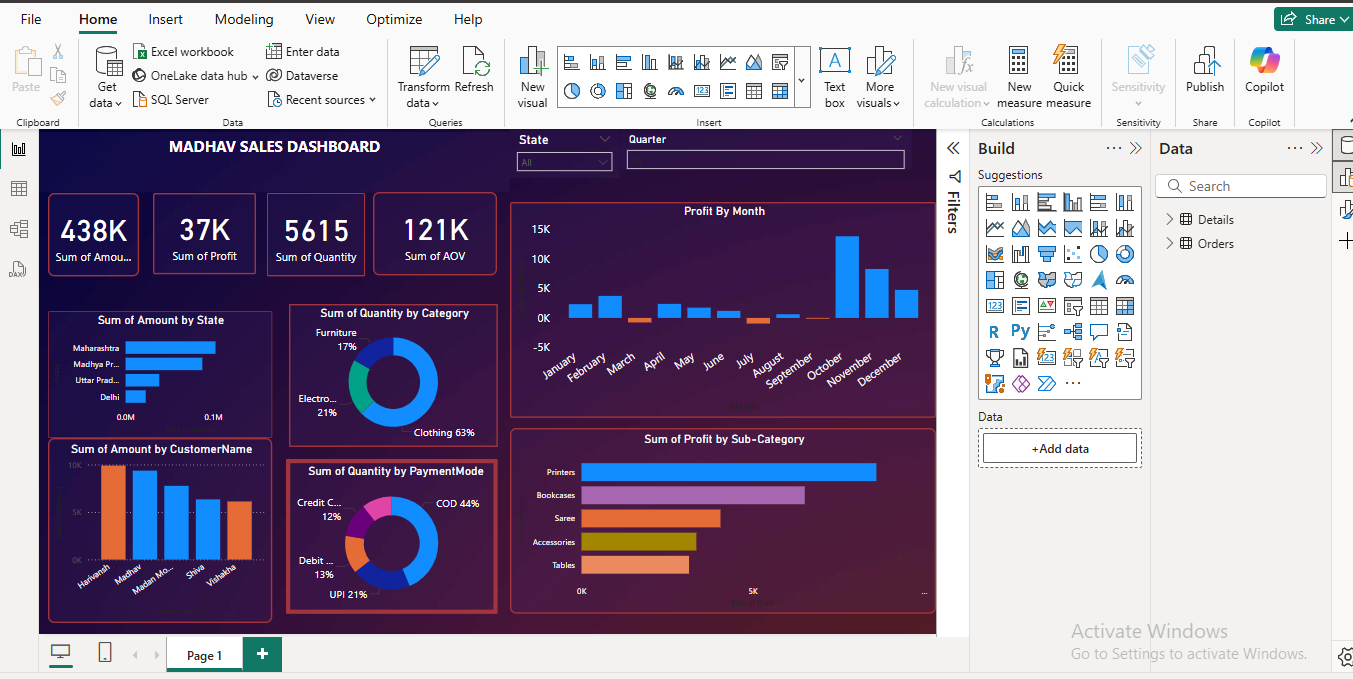

What the dashboard file says about the page in this screenshot:
{"tool":"powerbi","page":{"name":"Page 1","canvas":[1280,720],"ordinal":0},"visuals":[{"type":"textbox","box":[0,4.3,671.8,86.5],"z":0},{"type":"columnChart","title":"Profit By Month","fields":{"Category":["Orders.Order Date.Variation.Date Hierarchy.Month"],"Y":["Details.Profit"]},"box":[671.8,104.9,608,307.6],"z":1000},{"type":"barChart","fields":{"Category":["Details.Sub-Category"],"Y":["Details.Profit"]},"box":[671.8,426.6,608,265],"z":2000},{"type":"donutChart","fields":{"Y":["Details.Quantity"],"Category":["Details.PaymentMode"]},"box":[352.9,470.6,301.9,221.1],"z":3000},{"type":"donutChart","fields":{"Category":["Details.Category"],"Y":["Details.Quantity"]},"box":[357.2,249.4,297.6,204.1],"z":4000},{"type":"card","fields":{"Values":["Details.Amount"]},"box":[12.8,90.7,130.4,119.1],"z":5000},{"type":"card","fields":{"Values":["Details.Profit"]},"box":[163,90.7,147.4,116.2],"z":6000},{"type":"card","fields":{"Values":["Details.Quantity"]},"box":[326,90.7,140.3,119.1],"z":7000},{"type":"card","fields":{"Values":["Details.AOV"]},"box":[477.1,90,177.1,118.6],"z":8000},{"type":"barChart","fields":{"Category":["Orders.State"],"Y":["Details.Amount"]},"box":[12.8,259.4,320.3,181.4],"z":9000},{"type":"columnChart","fields":{"Category":["Orders.CustomerName"],"Y":["Details.Amount"]},"box":[12.8,440.8,320.3,263.6],"z":10000},{"type":"slicer","fields":{"Values":["Orders.State"]},"box":[671.4,0,155.7,70],"z":11000},{"type":"slicer","fields":{"Values":["Orders.Order Date.Variation.Date Hierarchy.Quarter"]},"box":[828.6,0,415.7,57.1],"z":12000}]}

Visuals, with their boxes on the page's 1280x720 design canvas (x1, y1, x2, y2). These are canvas units, not pixel positions in the 1353x679 screenshot, which may show the page scaled, cropped or inside an application window:
textbox: region(0, 4, 672, 91)
"Profit By Month" columnChart: region(672, 105, 1280, 412)
barChart - Details.Sub-Category x Details.Profit: region(672, 427, 1280, 692)
donutChart - Details.Quantity x Details.PaymentMode: region(353, 471, 655, 692)
donutChart - Details.Category x Details.Quantity: region(357, 249, 655, 454)
card - Details.Amount: region(13, 91, 143, 210)
card - Details.Profit: region(163, 91, 310, 207)
card - Details.Quantity: region(326, 91, 466, 210)
card - Details.AOV: region(477, 90, 654, 209)
barChart - Orders.State x Details.Amount: region(13, 259, 333, 441)
columnChart - Orders.CustomerName x Details.Amount: region(13, 441, 333, 704)
slicer - Orders.State: region(671, 0, 827, 70)
slicer - Orders.Order Date.Variation.Date Hierarchy.Quarter: region(829, 0, 1244, 57)
